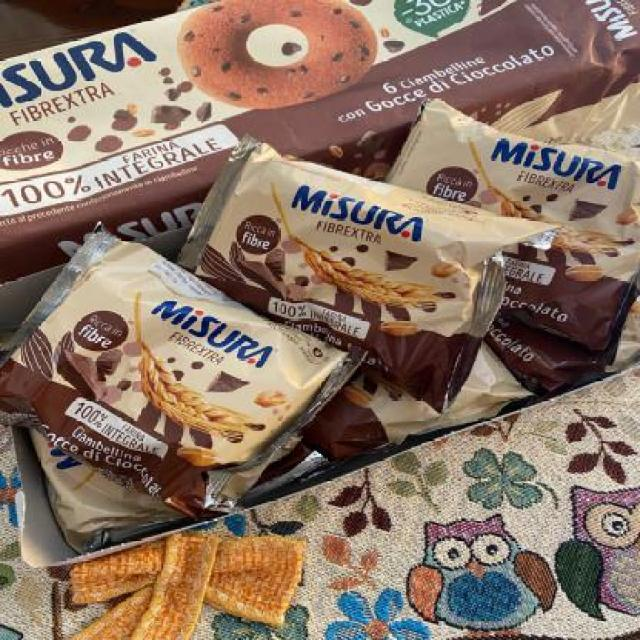Merendine: (0, 8, 640, 226), (191, 152, 524, 406), (24, 246, 333, 508), (397, 106, 640, 349)
